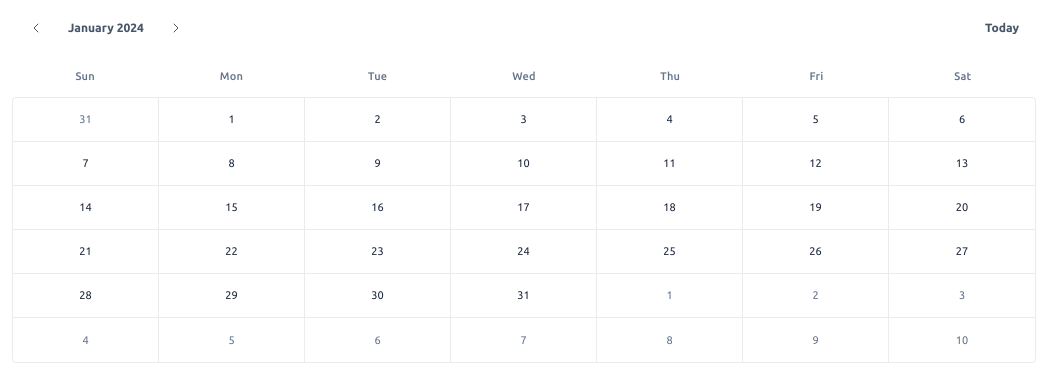
Test: FlowCalendarView — navigation › next month button changes month
Click the button named "Next month" at (176, 28), box [152, 4, 200, 52]
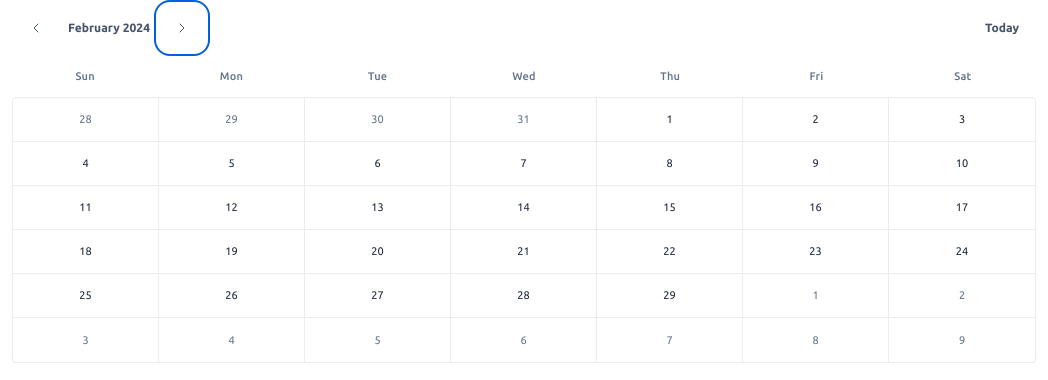
Expected: the text "February 2024" is shown, [68, 21, 150, 34]
